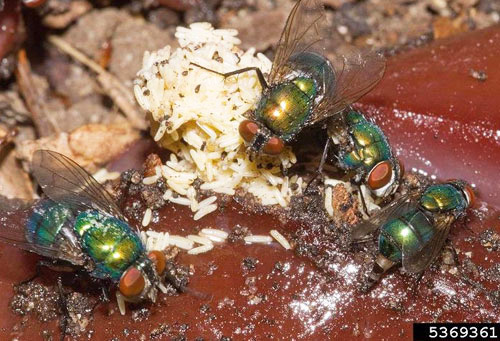green bottles flies: (14, 138, 173, 323), (368, 165, 479, 285), (231, 28, 319, 169)
